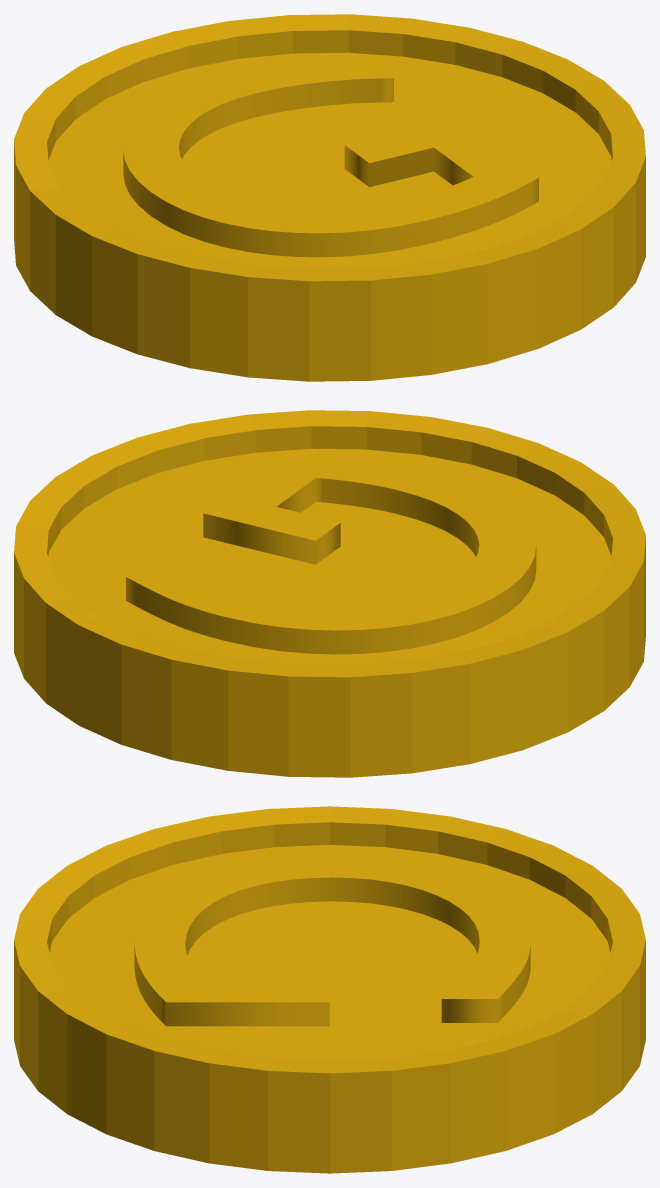
Rendered from Gold 1.fbx.
3 views of the same model, one above another, from view 1: azimuth 30°, elevation 25°; view 2: azimuth 150°, elevation 25°; view 3: azimuth 270°, elevation 25° (orthographic).
Parts seen in each view (by area): view 1: Text.001; view 2: Text.001; view 3: Text.001.
Part boxes in pixels (<box>): Text.001: <box>14,14,645,381</box>; Text.001: <box>14,410,645,777</box>; Text.001: <box>14,806,645,1173</box>.
Bounding box in the file's own units: 112 × 19.64 × 112.
